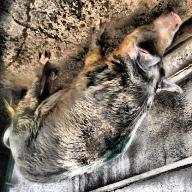boar: (1, 10, 182, 184)
